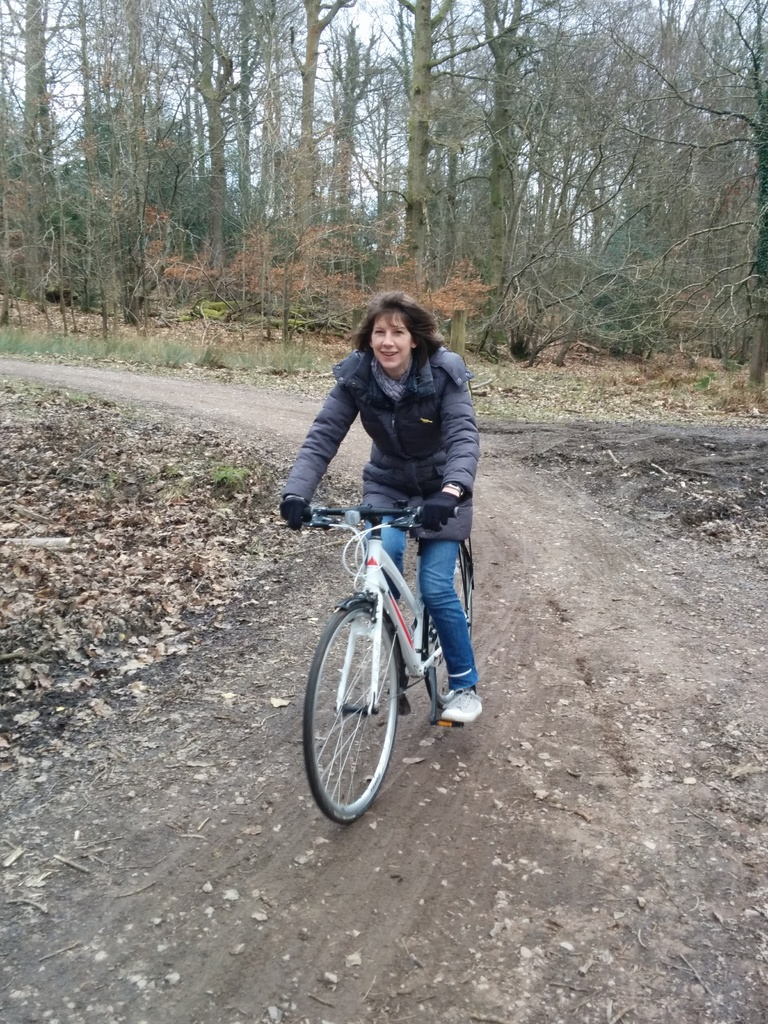Bike: (286, 488, 474, 837)
